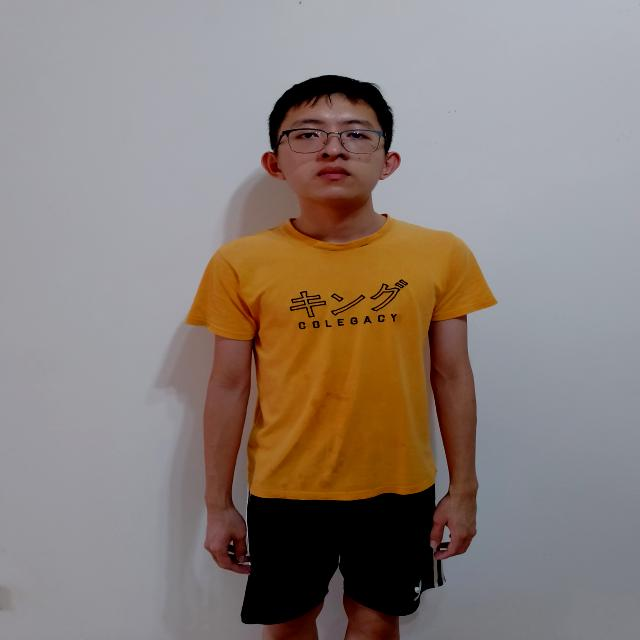person_without_labcoat: (187, 76, 495, 639)
